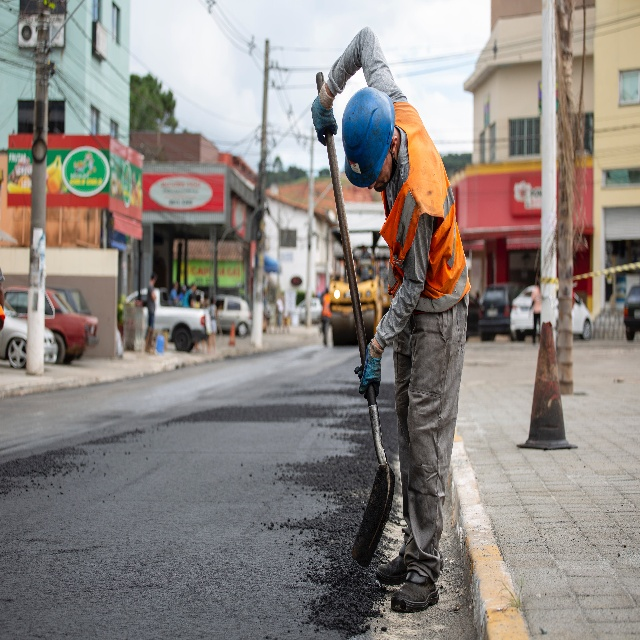Guantes: (354, 337, 384, 400), (311, 82, 338, 146)
